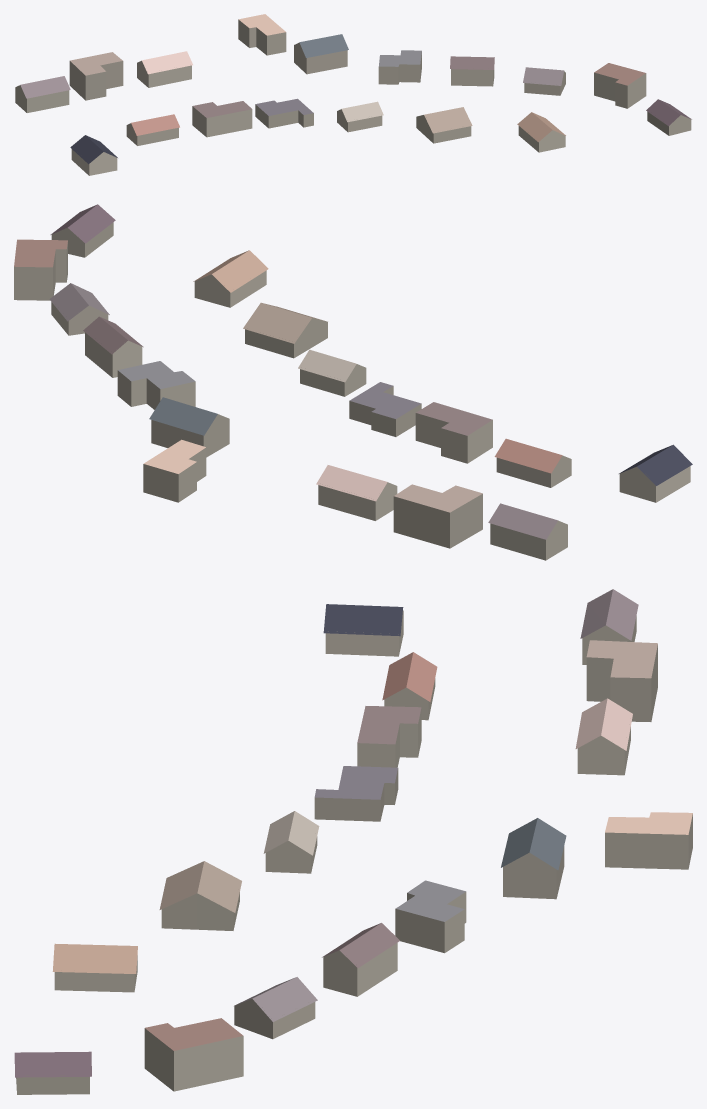
3 renders of one model, top to bottom at view 1: azimuth 30°, elevation 25°; view 2: azimuth 150°, elevation 25°; view 3: azimuth 270°, elevation 25°, orthographic. The views are drawn at different scales.
Parts seen in each view (by area): view 1: tuile; view 2: tuile; view 3: tuile.
Part boxes in pixels (x1,y1,x2,y2): tuile: (15,14,691,175); tuile: (14,204,692,560); tuile: (14,589,692,1094).
Size of the model in its own units: 188 by 15.24 by 123.
